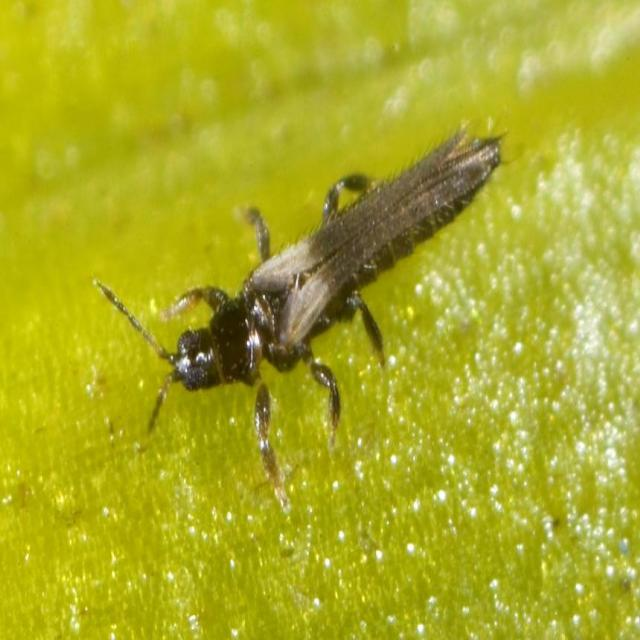Thrip-Adult-: (87, 106, 510, 464)
